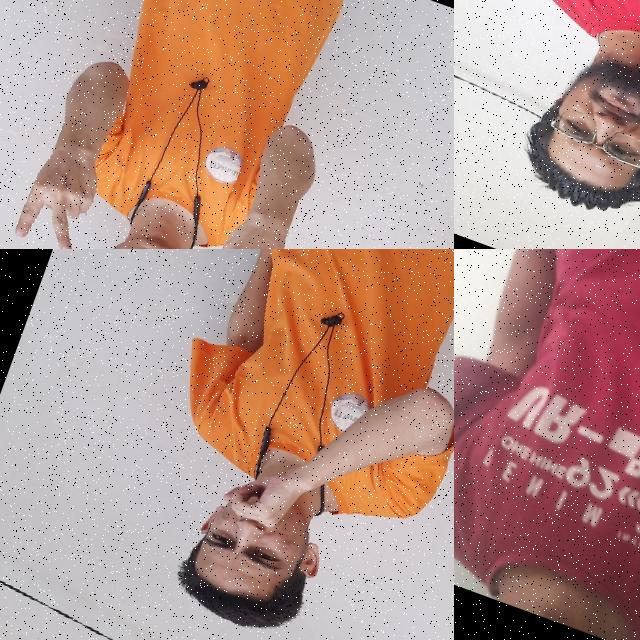Fist Mouth: (157, 436, 358, 640)
Reversed Victory: (0, 128, 118, 249), (188, 196, 301, 249)
